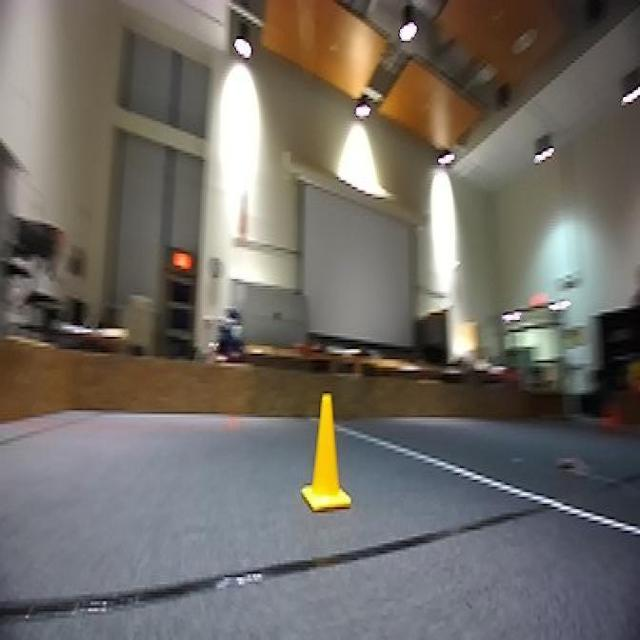frc_cone: (302, 393, 355, 512)
